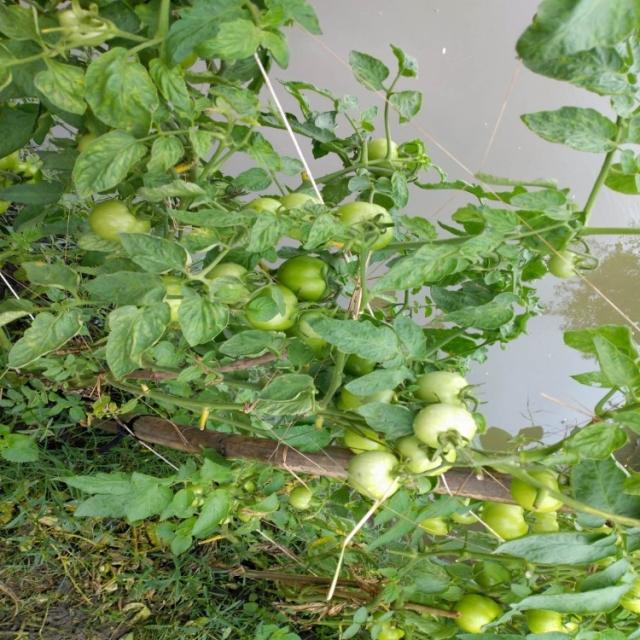tomato: (402, 394, 508, 460), (392, 434, 469, 487), (271, 249, 335, 310), (413, 362, 475, 424), (86, 201, 163, 247), (522, 462, 580, 515), (348, 450, 403, 504), (452, 587, 505, 635), (337, 198, 399, 239), (261, 285, 311, 333), (208, 251, 260, 295), (489, 497, 533, 546), (523, 599, 585, 633), (254, 184, 317, 217), (426, 511, 460, 546), (283, 485, 318, 514), (549, 247, 577, 281), (363, 137, 397, 163)
